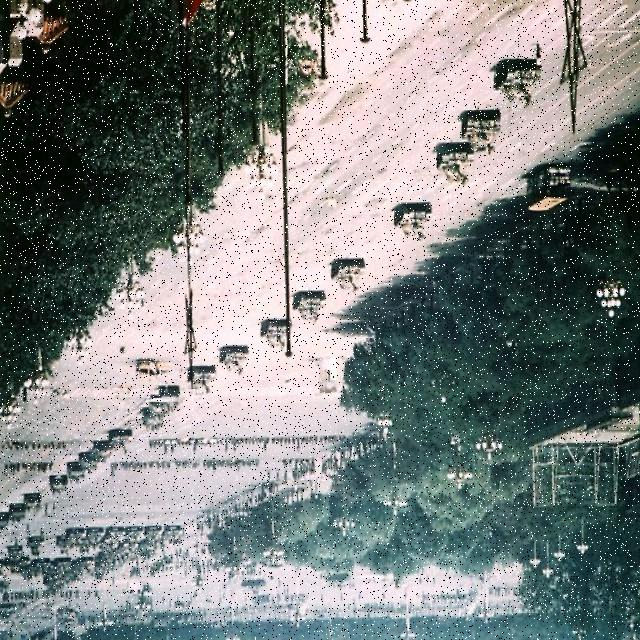MIL_MBT: (495, 55, 541, 108), (434, 144, 479, 190), (460, 108, 502, 154), (390, 197, 430, 243), (329, 260, 369, 293), (290, 293, 326, 328)
